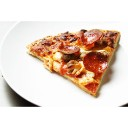pepperonipizza: (28, 29, 120, 95)
